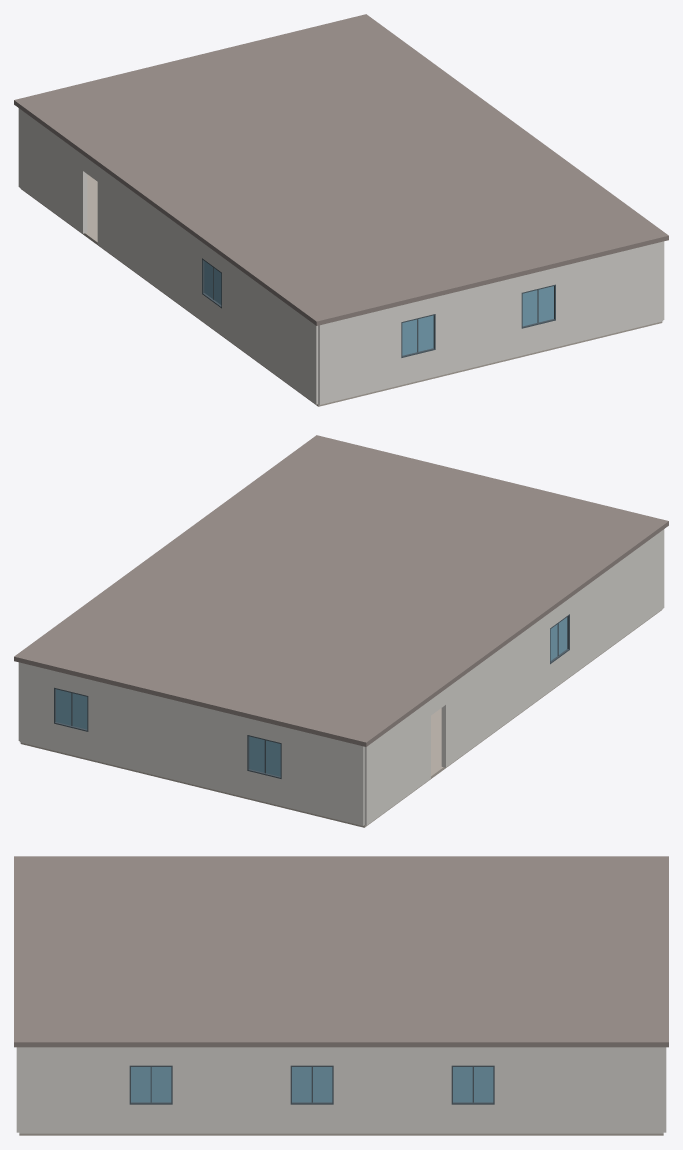
File: salema-cilla-bf6a55d5b6.glb
3 views of the same model, one above another, from view 1: azimuth 30°, elevation 25°; view 2: azimuth 150°, elevation 25°; view 3: azimuth 270°, elevation 25° (orthographic). The views are drawn at different scales.
Parts seen in each view (by area): view 1: roof_0, wall_0_14, wall_0_16, wall_0_17, wall_0_13, wall_0_12, wall_0_15, floor_slab_0, window_0_4_pane, window_0_7_pane, wall_0_43, wall_0_52 (+2 smaller); view 2: roof_0, wall_0_1, wall_0_16, wall_0_17, wall_0_0, wall_0_15, wall_0_2, floor_slab_0, window_0_0_pane, window_0_5_pane, wall_0_47, wall_0_30 (+3 smaller); view 3: roof_0, wall_0_24, wall_0_25, wall_0_26, wall_0_27, floor_slab_0, window_0_3_pane, window_0_1_pane, window_0_2_pane, wall_0_33, wall_0_36, wall_0_39 (+3 smaller).
Boxes of the visible parts, <box> form: roof_0: <box>14,14,668,325</box>; wall_0_14: <box>556,241,663,347</box>; wall_0_16: <box>97,166,201,320</box>; wall_0_17: <box>222,257,318,404</box>; wall_0_13: <box>435,276,521,376</box>; wall_0_12: <box>318,305,401,404</box>; wall_0_15: <box>18,108,87,233</box>; floor_slab_0: <box>20,174,662,406</box>; window_0_4_pane: <box>522,286,553,326</box>; window_0_7_pane: <box>402,315,433,355</box>; wall_0_43: <box>521,320,555,355</box>; wall_0_52: <box>401,350,435,384</box>; roof_0: <box>14,435,668,746</box>; wall_0_1: <box>88,679,247,797</box>; wall_0_16: <box>441,613,549,767</box>; wall_0_17: <box>570,529,664,676</box>; wall_0_0: <box>281,726,364,825</box>; wall_0_15: <box>364,700,430,825</box>; wall_0_2: <box>19,662,53,750</box>; floor_slab_0: <box>20,609,662,827</box>; window_0_0_pane: <box>56,689,87,729</box>; window_0_5_pane: <box>249,736,280,776</box>; wall_0_47: <box>247,771,281,805</box>; wall_0_30: <box>54,723,88,758</box>; roof_0: <box>14,856,668,1047</box>; wall_0_24: <box>494,1047,663,1133</box>; wall_0_25: <box>333,1047,451,1133</box>; wall_0_26: <box>172,1047,290,1133</box>; wall_0_27: <box>19,1047,129,1133</box>; floor_slab_0: <box>19,1133,663,1135</box>; window_0_3_pane: <box>131,1067,171,1102</box>; window_0_1_pane: <box>453,1067,493,1102</box>; window_0_2_pane: <box>292,1067,332,1102</box>; wall_0_33: <box>451,1104,494,1133</box>; wall_0_36: <box>290,1104,333,1133</box>; wall_0_39: <box>129,1104,172,1133</box>.
Bounding box in the file's own units: 41 × 9.8 × 61.
